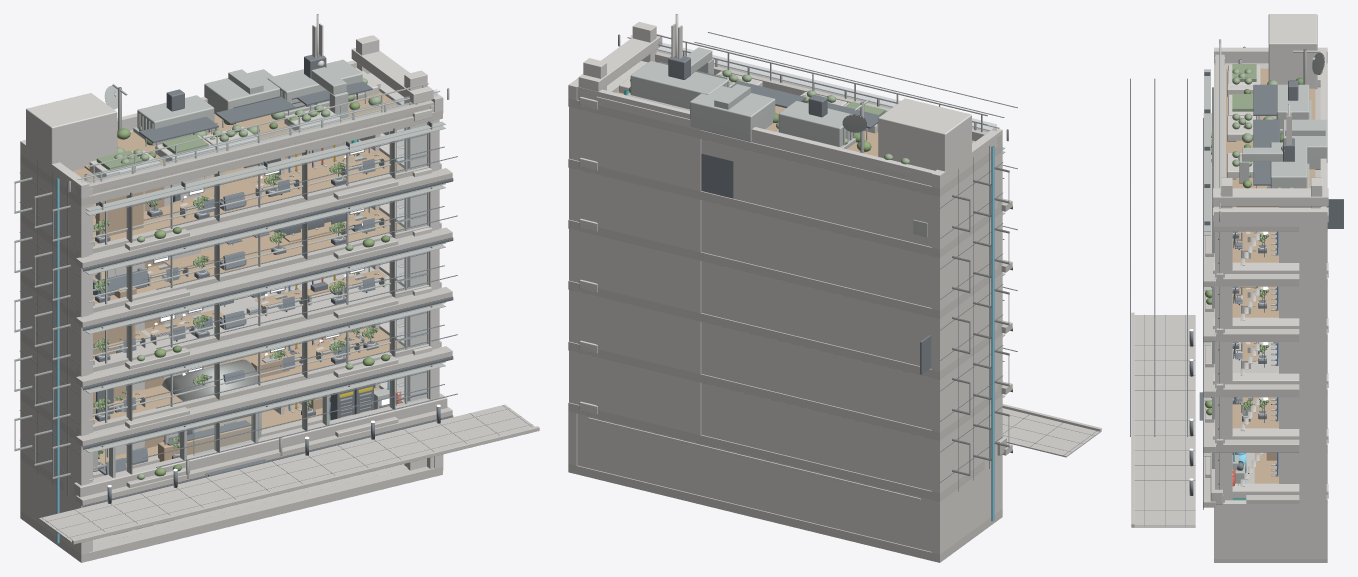
File: facade.glb
The picture shows the model from 3 angles, left to right: view 1: azimuth 30°, elevation 25°; view 2: azimuth 150°, elevation 25°; view 3: azimuth 270°, elevation 25°; orthographic projection. The views are drawn at different scales.
Parts seen in each view (by area): view 1: Architecture__stone, Architecture__chalk, Architecture__metal, Architecture__dark, Architecture__wood, Furniture-context__metal, Furniture-context__wood, Furniture-context__dark, Furniture-context__chalk, Architecture__glass, Furniture-context__upholstery, Furniture-context__glass (+5 smaller); view 2: Architecture__chalk, Architecture__stone, Furniture-context__metal, Furniture-context__chalk, Furniture-context__dark, Architecture__metal, Architecture__dark, Furniture-context__glass, Plumbing__Plumbing, Furniture-context__green; view 3: Architecture__chalk, Architecture__stone, Furniture-context__metal, Furniture-context__chalk, Furniture-context__dark, Architecture__wood, Architecture__dark, Architecture__metal, Furniture-context__green, Furniture-context__wood, Furniture-context__leaf3, Furniture-context__upholstery.
Part boxes in pixels (x1,y1,x2,y2): Architecture__stone: (20,100,539,562); Architecture__chalk: (20,35,443,554); Architecture__metal: (14,83,445,479); Architecture__dark: (19,121,532,539); Architecture__wood: (73,91,404,467); Furniture-context__metal: (68,14,449,471); Furniture-context__wood: (84,92,396,467); Furniture-context__dark: (93,54,440,534); Furniture-context__chalk: (26,23,378,350); Architecture__glass: (194,123,427,455); Furniture-context__upholstery: (93,158,375,475); Furniture-context__glass: (81,89,437,183); Architecture__chalk: (568,22,1002,554); Architecture__stone: (568,50,1101,562); Furniture-context__metal: (618,14,1008,237); Furniture-context__chalk: (619,23,971,183); Furniture-context__dark: (659,56,931,374); Architecture__metal: (656,34,1009,475); Architecture__dark: (694,32,1096,491); Furniture-context__glass: (631,35,996,131); Plumbing__Plumbing: (991,146,994,521); Furniture-context__green: (630,69,909,164); Architecture__chalk: (1213,47,1328,558); Architecture__stone: (1131,54,1327,562); Furniture-context__metal: (1219,39,1327,412); Furniture-context__chalk: (1227,14,1320,344); Furniture-context__dark: (1189,80,1343,495); Architecture__wood: (1226,68,1315,483); Architecture__dark: (1130,72,1219,526); Architecture__metal: (1204,39,1278,489); Furniture-context__green: (1232,64,1322,414); Furniture-context__wood: (1236,71,1280,460); Furniture-context__leaf3: (1242,126,1268,410); Furniture-context__upholstery: (1233,232,1242,403).
Size of the model in its own units: 24.65 by 22.81 by 10.52.
